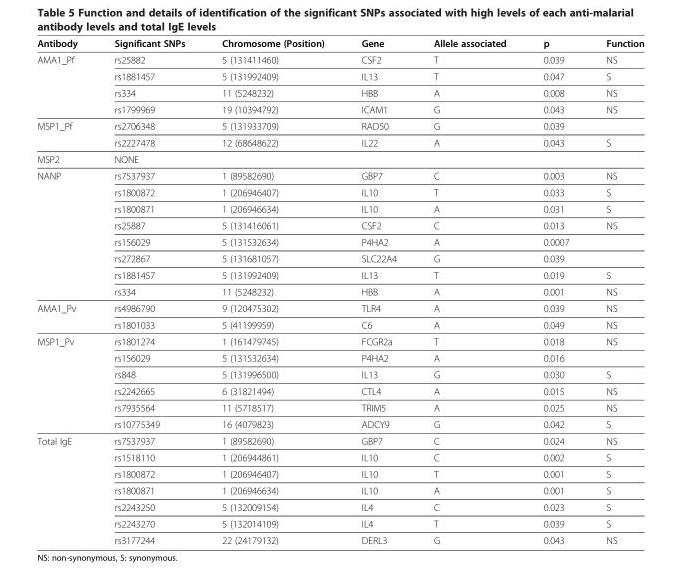table: (36, 37, 643, 545)
table column: (202, 37, 342, 545), (414, 37, 524, 545), (95, 37, 202, 545), (342, 37, 414, 545), (524, 37, 586, 545), (36, 37, 95, 545), (586, 37, 643, 545)
table column header: (36, 37, 643, 51)
table row: (36, 67, 643, 84), (36, 100, 643, 117), (36, 117, 643, 134), (36, 150, 643, 167), (36, 183, 643, 200), (36, 216, 643, 233), (36, 233, 643, 250), (36, 266, 643, 283), (36, 299, 643, 316), (36, 332, 643, 349), (36, 365, 643, 382), (36, 382, 643, 399), (36, 415, 643, 432), (36, 448, 643, 465), (36, 481, 643, 498), (36, 498, 643, 515), (36, 51, 643, 67), (36, 84, 643, 100), (36, 134, 643, 150), (36, 167, 643, 183), (36, 200, 643, 216), (36, 250, 643, 266), (36, 283, 643, 299), (36, 316, 643, 332), (36, 349, 643, 365), (36, 399, 643, 415), (36, 432, 643, 448), (36, 465, 643, 481), (36, 515, 643, 531), (36, 37, 643, 51), (36, 531, 643, 545)
table spanning cell: (36, 167, 95, 299), (36, 432, 95, 545), (36, 332, 95, 432), (36, 51, 95, 117), (36, 117, 95, 150), (36, 299, 95, 332)
